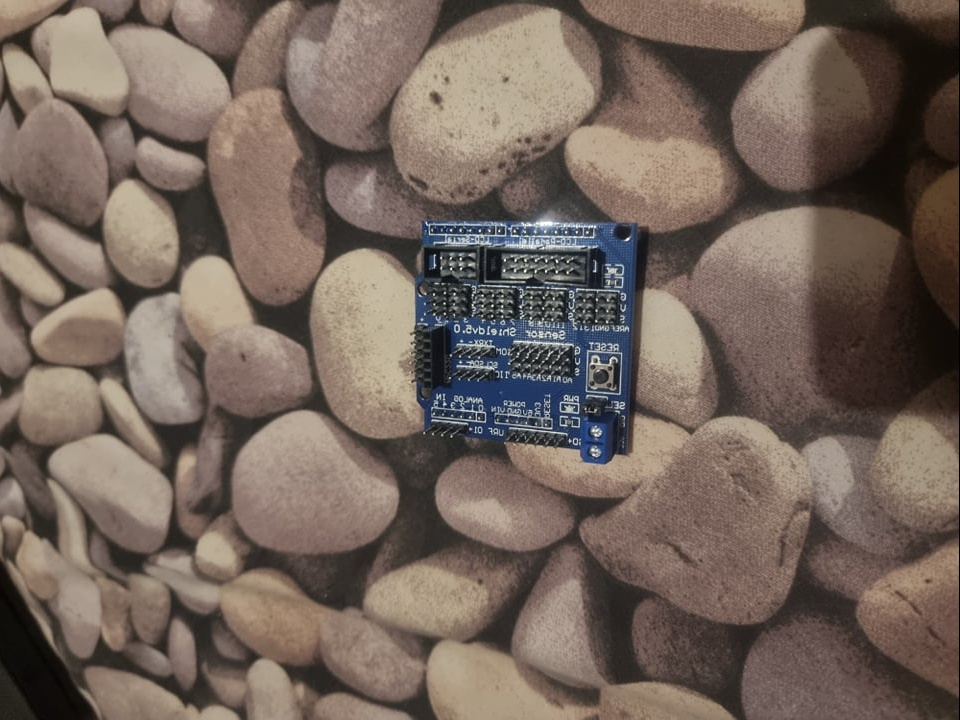5V EXPANSION: (415, 220, 640, 467)
